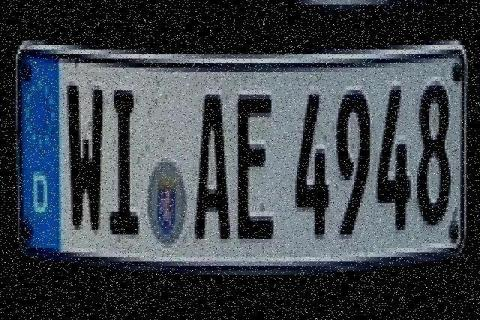LicensePlate: (15, 36, 467, 288)
